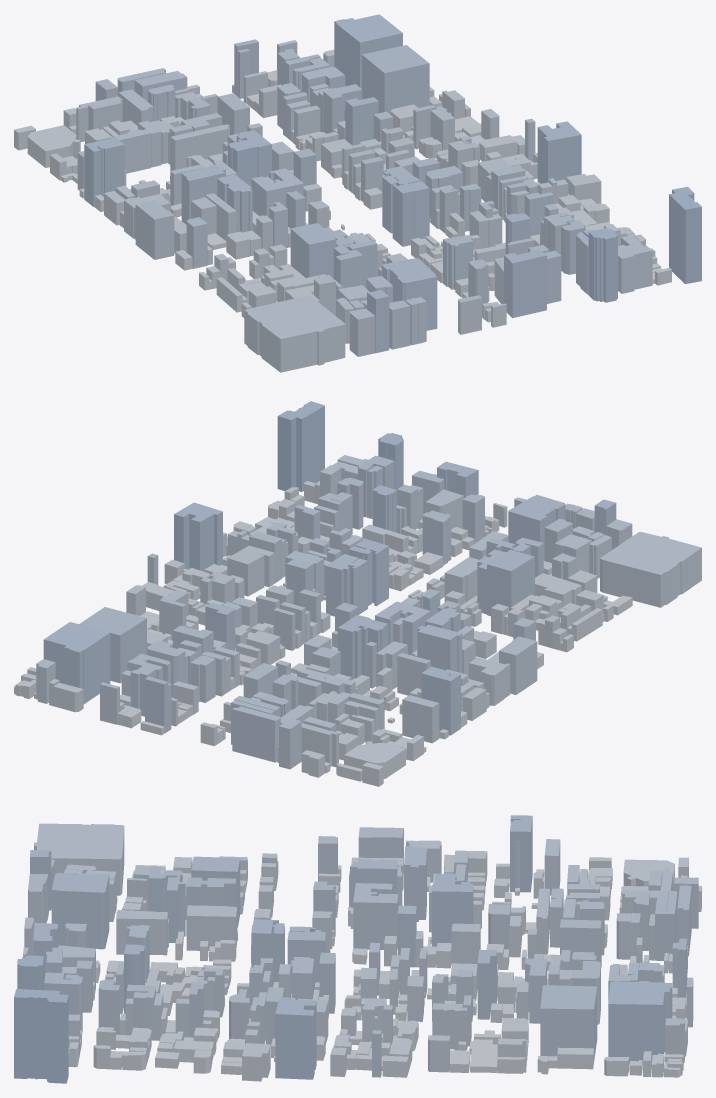
The picture shows the model from 3 angles, top to bottom: view 1: azimuth 30°, elevation 25°; view 2: azimuth 150°, elevation 25°; view 3: azimuth 270°, elevation 25°; orthographic projection. The views are drawn at different scales.
Bounding box in the file's own units: 392 × 66.41 × 510.
